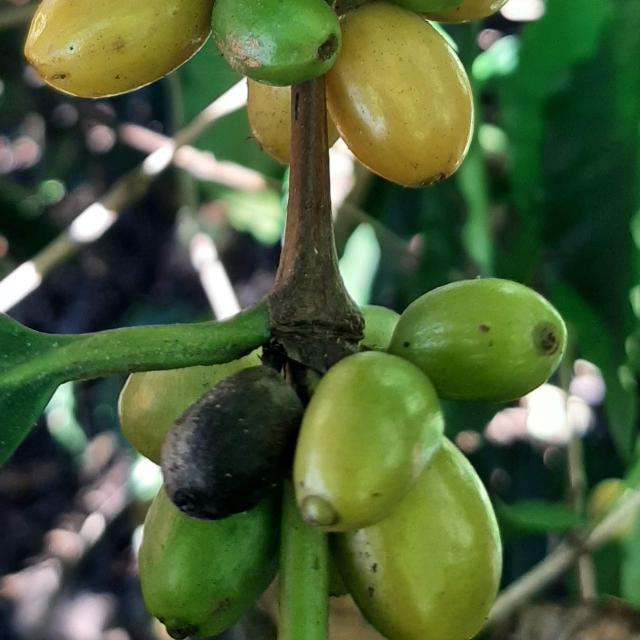green: (389, 278, 568, 402), (138, 487, 279, 640), (118, 350, 262, 465), (212, 0, 342, 85)
red: (160, 366, 304, 521)
yellow: (331, 439, 503, 640), (326, 1, 474, 187), (294, 352, 444, 532), (23, 0, 214, 97), (246, 77, 290, 164)
